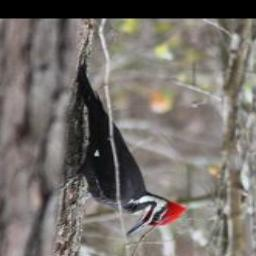Woodpecker: (59, 57, 191, 236)
